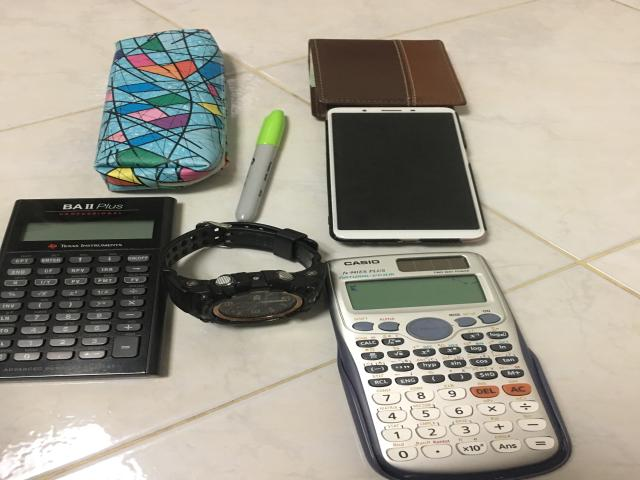Mobile phone: (327, 107, 485, 242)
Pen: (235, 110, 285, 222)
Wallet: (308, 38, 467, 118)
Watch: (160, 222, 327, 324)
